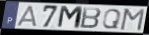7: (42, 4, 60, 29)
A: (16, 5, 38, 28)
B: (79, 7, 103, 30)
M: (56, 5, 85, 30), (119, 8, 146, 32)
Q: (101, 8, 123, 30)
